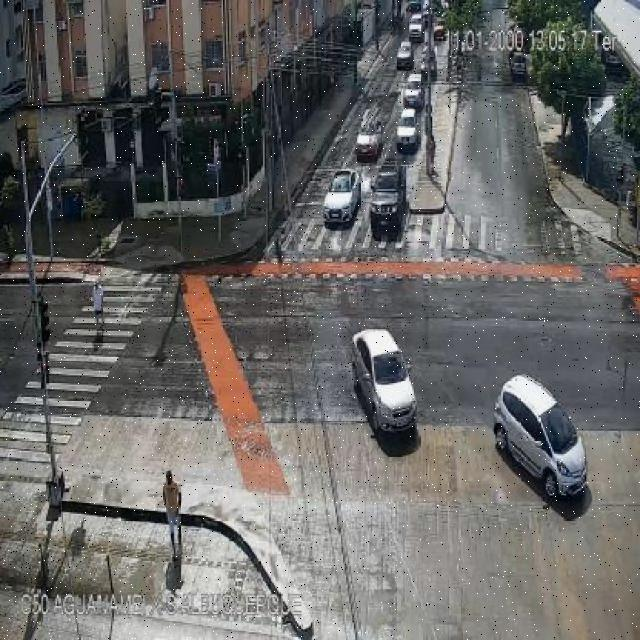Car: (493, 375, 587, 499), (348, 326, 422, 438), (369, 165, 407, 238), (323, 169, 363, 223), (395, 110, 419, 150), (354, 129, 382, 162), (402, 77, 424, 109), (509, 52, 528, 82), (396, 41, 413, 69), (421, 49, 437, 78), (408, 14, 424, 42), (422, 7, 432, 32), (433, 22, 446, 41), (407, 1, 422, 14), (440, 0, 450, 12), (422, 0, 431, 12)
